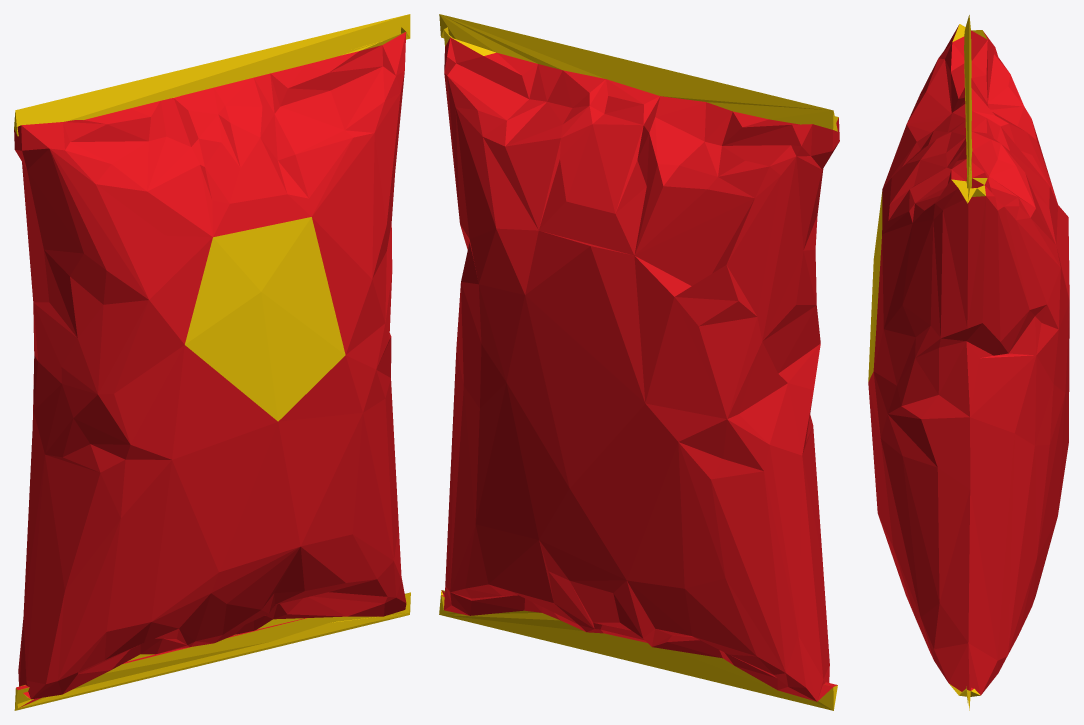
The model's file is Chipsy.fbx.
The picture shows the model from 3 angles, left to right: view 1: azimuth 30°, elevation 25°; view 2: azimuth 150°, elevation 25°; view 3: azimuth 270°, elevation 25°; orthographic projection. The views are drawn at different scales.
Parts seen in each view (by area): view 1: Plane; view 2: Plane; view 3: Plane.
Part boxes in pixels (x1,y1,x2,y2): Plane: [14, 14, 410, 710]; Plane: [439, 14, 839, 710]; Plane: [868, 15, 1069, 710].
Bounding box in the file's own units: 80.59 × 117 × 40.45.
